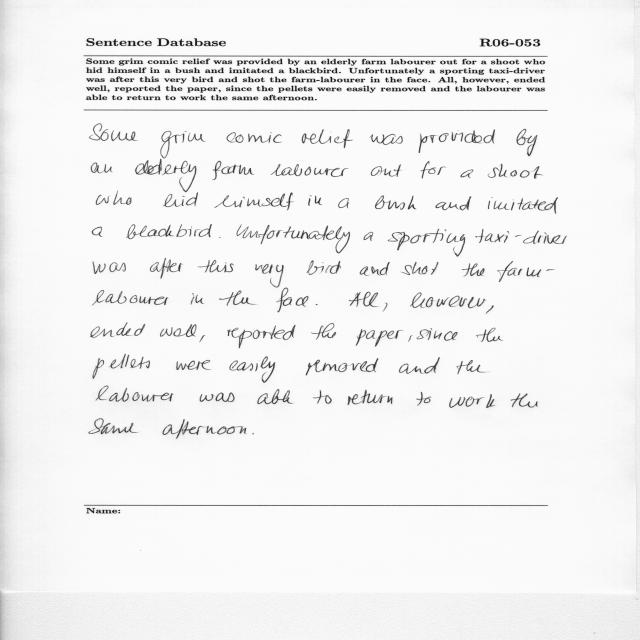word: (237, 225, 350, 253), (388, 229, 465, 257), (135, 159, 196, 192), (419, 129, 495, 153), (163, 419, 247, 439), (228, 325, 296, 348), (214, 193, 294, 211), (93, 354, 150, 379), (475, 229, 567, 244), (306, 358, 379, 376), (126, 224, 212, 239), (96, 386, 174, 402), (230, 356, 276, 383), (497, 261, 555, 282), (411, 293, 487, 309), (161, 131, 206, 158), (488, 197, 558, 214), (93, 290, 169, 305), (271, 164, 349, 177), (301, 129, 353, 148), (89, 124, 138, 141), (488, 164, 543, 179), (91, 323, 145, 338), (356, 329, 403, 346), (213, 161, 255, 180), (277, 288, 309, 312), (89, 419, 138, 434), (399, 357, 440, 374), (150, 258, 183, 279), (348, 390, 393, 405), (255, 264, 284, 287), (449, 394, 495, 408), (226, 132, 282, 143), (375, 195, 416, 210), (219, 290, 257, 306), (517, 129, 538, 156), (257, 389, 293, 404), (417, 328, 458, 341), (163, 192, 198, 207), (306, 260, 341, 275), (96, 191, 132, 205), (436, 197, 472, 211), (401, 262, 439, 275), (160, 324, 197, 337), (421, 161, 447, 179), (349, 292, 378, 307), (198, 260, 234, 272), (311, 323, 336, 340), (360, 262, 390, 276), (456, 360, 486, 374), (93, 262, 126, 274), (476, 328, 503, 342), (511, 394, 538, 408), (370, 134, 403, 145), (371, 165, 401, 177), (200, 392, 235, 402), (176, 360, 210, 370), (462, 264, 485, 277), (313, 390, 332, 404), (91, 163, 112, 174), (417, 392, 432, 406), (308, 195, 322, 206), (191, 294, 204, 305), (92, 226, 103, 237), (461, 169, 474, 178), (338, 198, 349, 208), (364, 232, 373, 241), (486, 305, 494, 314), (200, 335, 206, 342), (383, 303, 388, 311), (408, 335, 413, 342), (219, 237, 221, 238), (316, 304, 318, 305), (252, 434, 254, 435)
